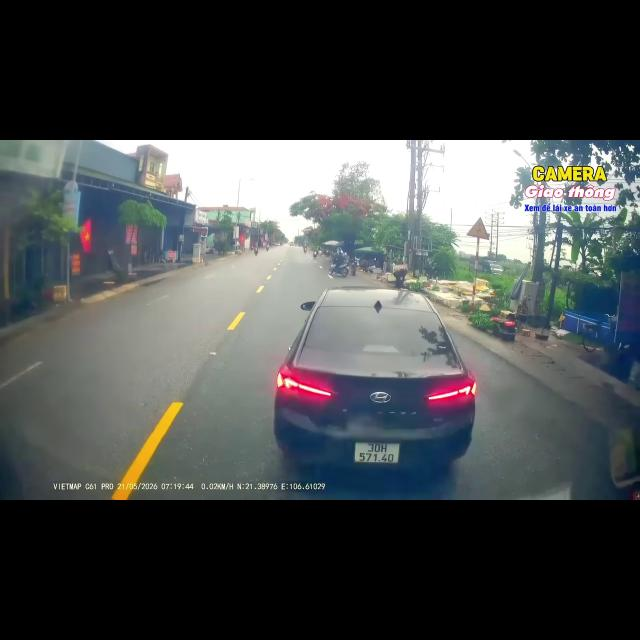car: (274, 287, 476, 467)
motorcycle: (329, 262, 348, 276), (351, 261, 356, 275), (314, 251, 318, 259), (254, 249, 258, 255), (304, 247, 306, 253), (266, 246, 268, 251)
